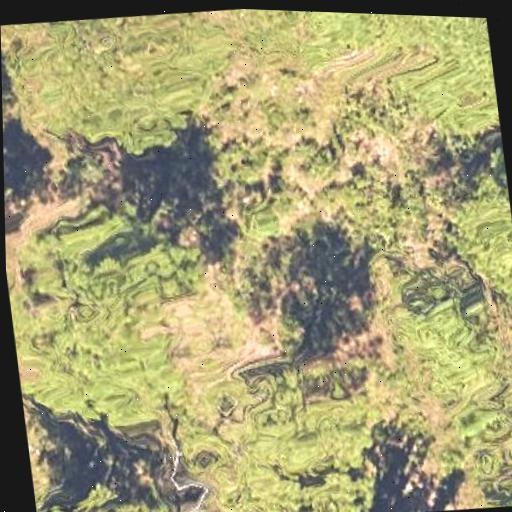tree-top: (179, 357, 392, 512), (11, 173, 217, 326), (364, 246, 512, 415), (24, 304, 190, 447), (33, 470, 177, 512), (3, 135, 24, 292)
